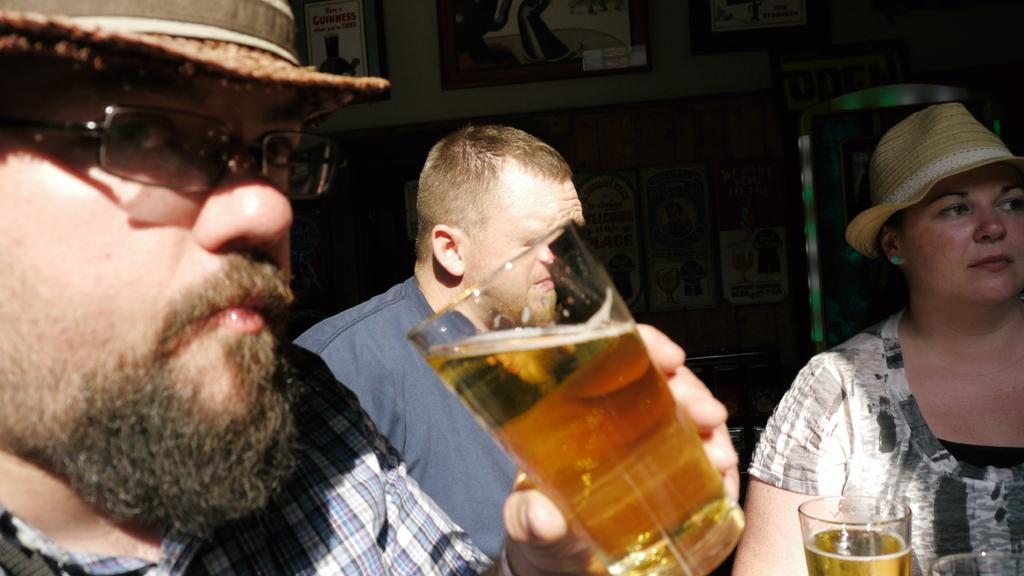Hat: (0, 0, 391, 129), (844, 101, 1022, 261)
